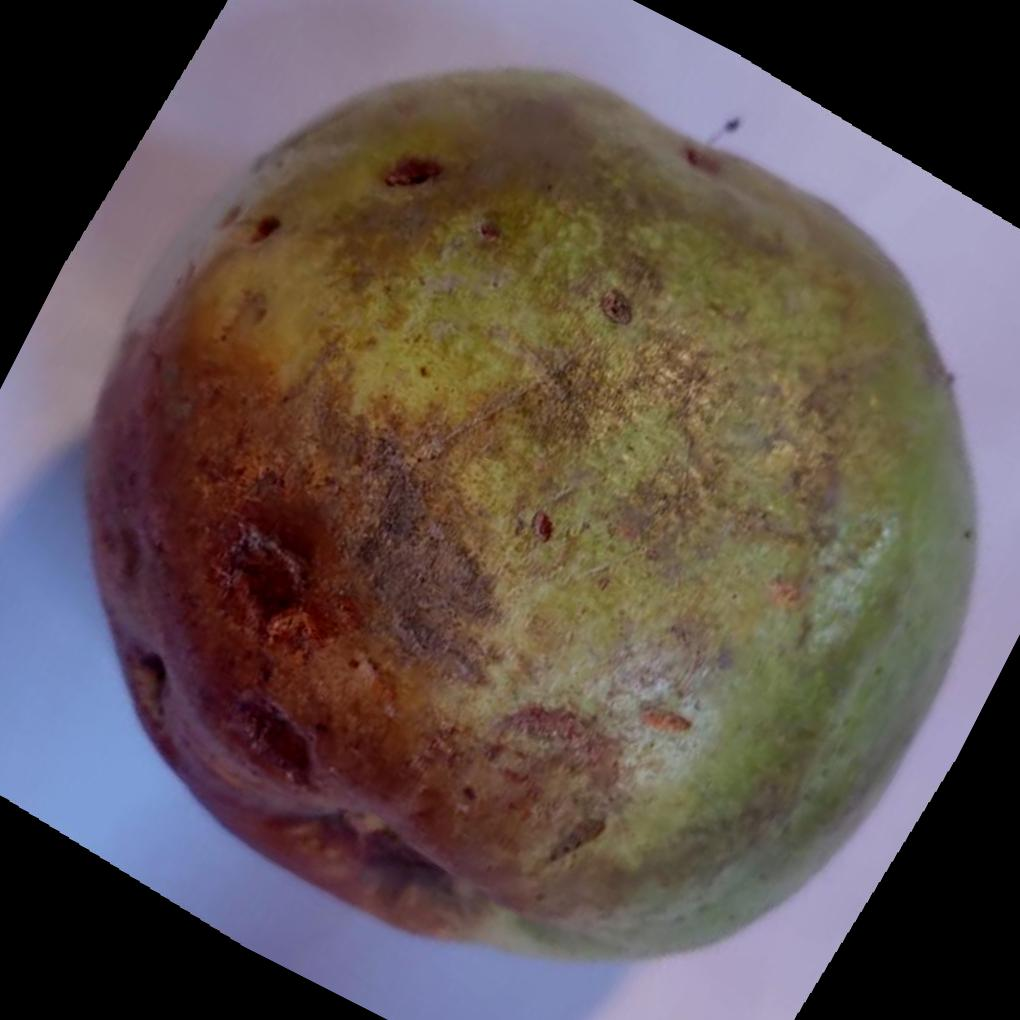FreshOrange: (79, 66, 977, 967)
